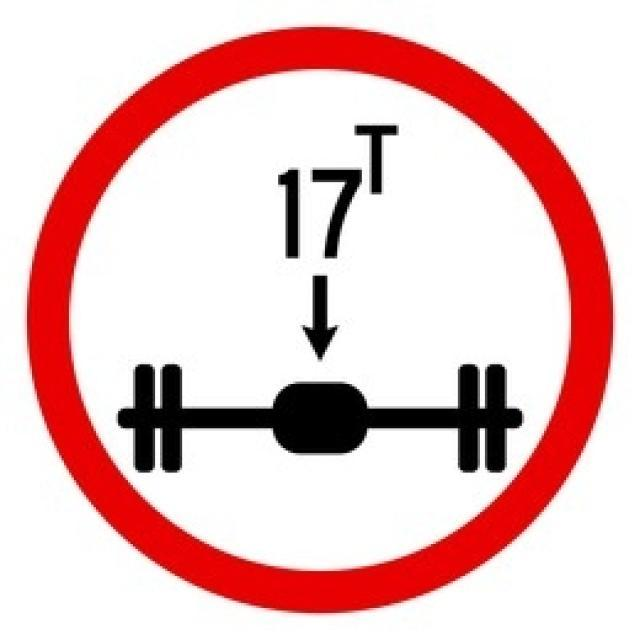axle load limit: (29, 28, 616, 613)
